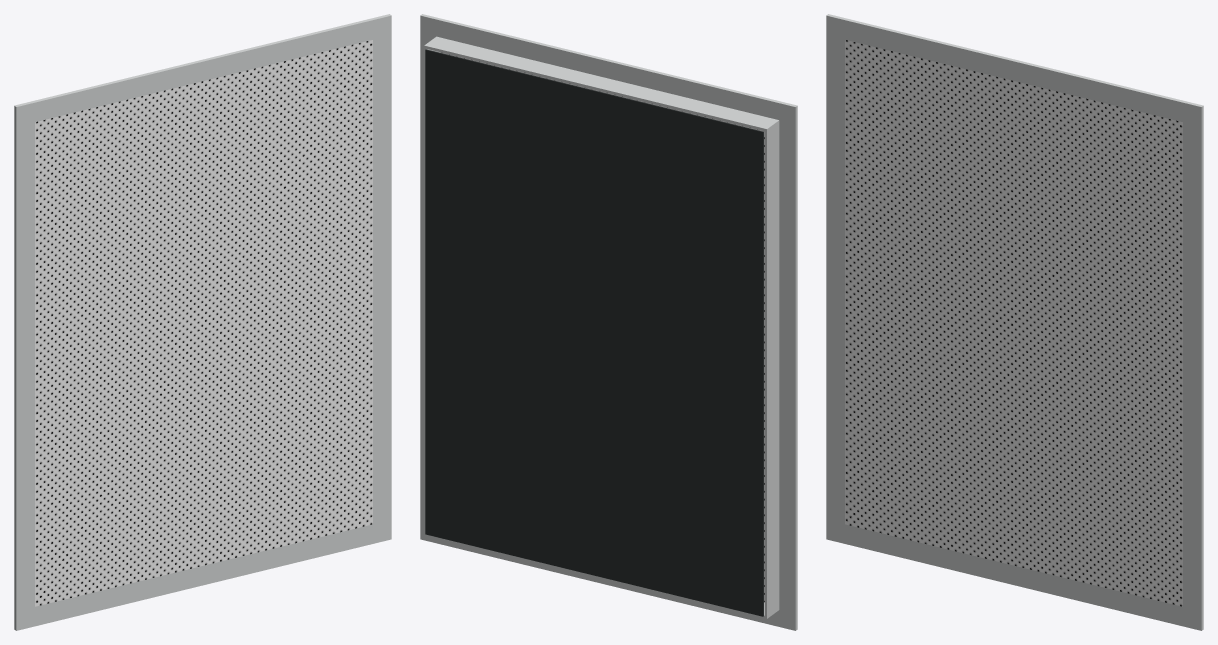
Rendered from ecoclima-egfr-300x400.glb.
3 renders of one model, left to right at view 1: azimuth 30°, elevation 25°; view 2: azimuth 150°, elevation 25°; view 3: azimuth 330°, elevation 25°, orthographic.
Parts seen in each view (by area): view 1: Profile_lamiera_forata, Profile_cornice.111, Profile_cornice.112, Profile_cornice.109, Profile_cornice.110; view 2: Interno.031, Profile_cornice.111, Profile_ritorno.118, Profile_cornice.109, Profile_ritorno.116, Profile_cornice.110, Profile_cornice.112, Profile_ritorno.119, Profile_lamiera_forata, Profile_ritorno.117; view 3: Profile_lamiera_forata, Profile_cornice.112, Profile_cornice.111, Profile_cornice.109, Profile_cornice.110.
Boxes of the visible parts, left/top/right/bottom form: Profile_lamiera_forata: left=35, top=40, right=372, bottom=606; Profile_cornice.111: left=14, top=122, right=34, bottom=611; Profile_cornice.112: left=373, top=35, right=391, bottom=524; Profile_cornice.109: left=14, top=14, right=391, bottom=126; Profile_cornice.110: left=14, top=520, right=391, bottom=630; Interno.031: left=425, top=49, right=763, bottom=616; Profile_cornice.111: left=779, top=123, right=797, bottom=611; Profile_ritorno.118: left=764, top=123, right=779, bottom=616; Profile_cornice.109: left=420, top=14, right=797, bottom=126; Profile_ritorno.116: left=424, top=36, right=779, bottom=131; Profile_cornice.110: left=420, top=520, right=797, bottom=630; Profile_cornice.112: left=420, top=35, right=440, bottom=520; Profile_ritorno.119: left=424, top=48, right=438, bottom=532; Profile_lamiera_forata: left=440, top=52, right=764, bottom=602; Profile_ritorno.117: left=424, top=533, right=779, bottom=618; Profile_lamiera_forata: left=845, top=40, right=1182, bottom=606; Profile_cornice.112: left=1183, top=122, right=1203, bottom=611; Profile_cornice.111: left=826, top=35, right=844, bottom=524; Profile_cornice.109: left=826, top=14, right=1203, bottom=126; Profile_cornice.110: left=826, top=520, right=1203, bottom=630.
Size of the model in its own units: 0.3 by 0.4 by 0.022.
3 materials, 1 textured.
